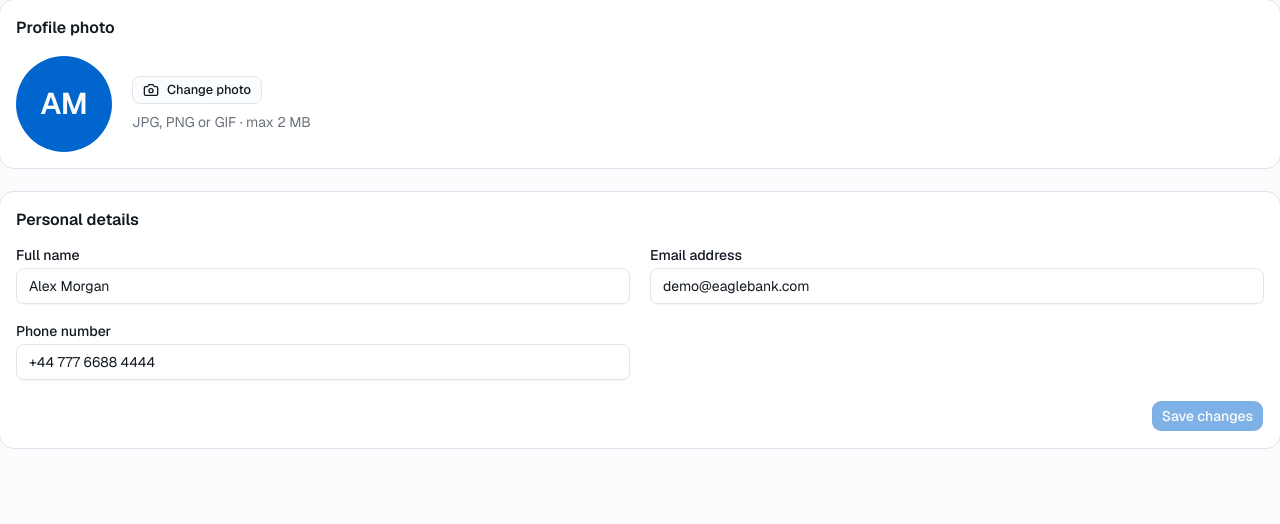
ProfileForm › shows a server error when the request fails
Replace the text in the field labelled "Full name" with "Alex Jones" at (323, 286), box [16,268,630,304]
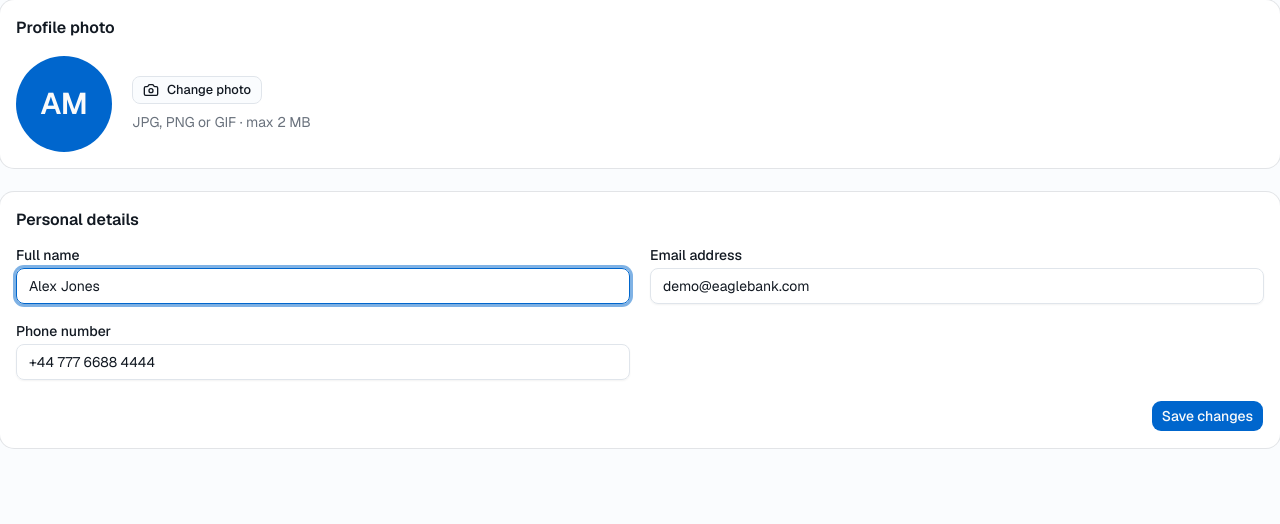
Click the button "Save changes".
click(1207, 416)  # box [1151,400,1264,432]
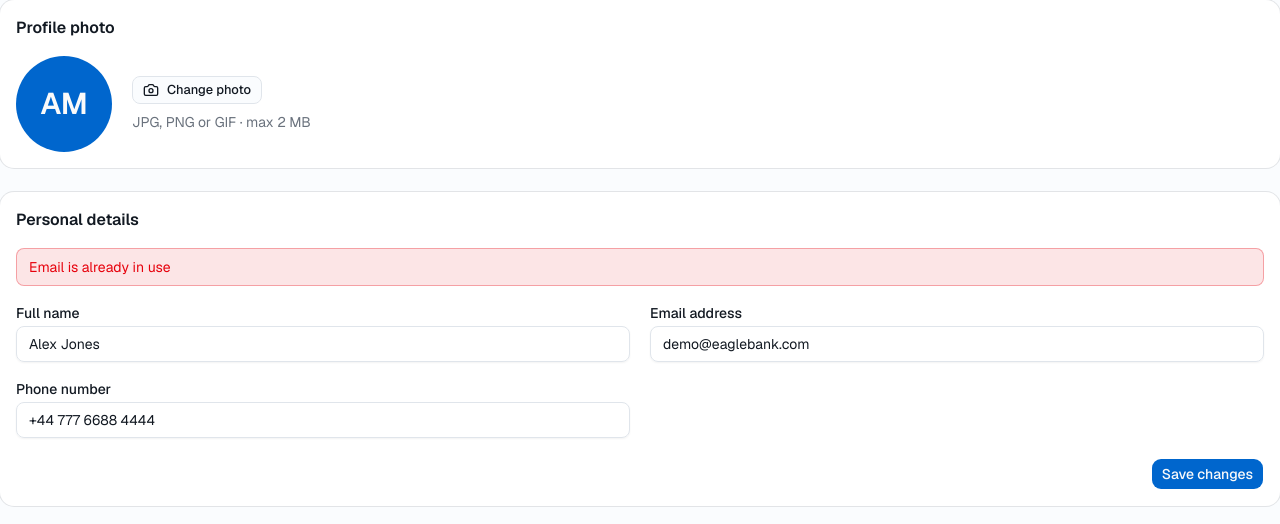
Now the text "Email is already in use" is shown, box [16,248,1264,286]
